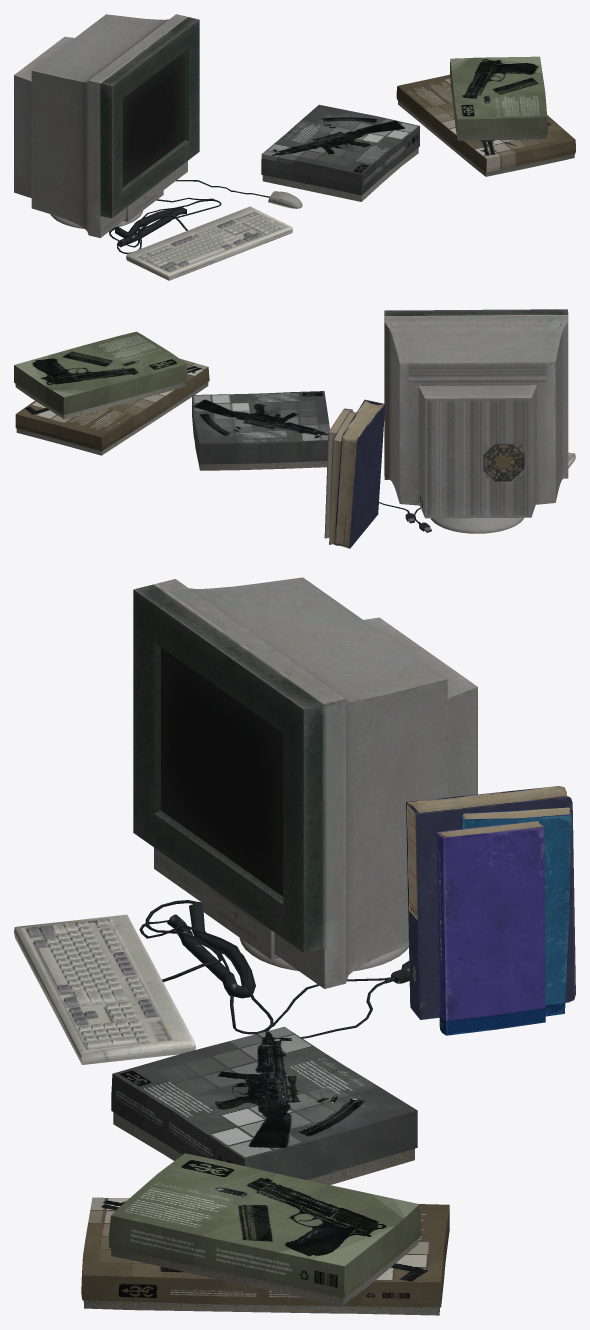
File: sm39_031_starsdeskset03a.fbx
The picture shows the model from 3 angles, top to bottom: view 1: azimuth 30°, elevation 25°; view 2: azimuth 150°, elevation 25°; view 3: azimuth 270°, elevation 25°; orthographic projection. The views are drawn at different scales.
Parts seen in each view (by area): view 1: LOD_1_Group_0_Sub_2__sm31_032_CommissionerPc01A_A_Mat, LOD_1_Group_0_Sub_5__sm32_039_BoardGame01A_A_Mat1, LOD_1_Group_0_Sub_3__sm42_002_DesktopPc01A_A_Mat, LOD_1_Group_0_Sub_4__sm31_021_KeyBoard01A_A_Mat1; view 2: LOD_1_Group_0_Sub_2__sm31_032_CommissionerPc01A_A_Mat, LOD_1_Group_0_Sub_5__sm32_039_BoardGame01A_A_Mat1, LOD_1_Group_4_Sub_1__sm36_007_PaperWork01A_A_Mat, LOD_1_Group_1_Sub_2__sm31_032_CommissionerPc01A_A_Mat, LOD_1_Group_0_Sub_1__sm36_007_PaperWork01A_A_Mat, LOD_1_Group_1_Sub_1__sm36_007_PaperWork01A_A_Mat; view 3: LOD_1_Group_0_Sub_2__sm31_032_CommissionerPc01A_A_Mat, LOD_1_Group_0_Sub_5__sm32_039_BoardGame01A_A_Mat1, LOD_1_Group_1_Sub_1__sm36_007_PaperWork01A_A_Mat, LOD_1_Group_0_Sub_3__sm42_002_DesktopPc01A_A_Mat, LOD_1_Group_4_Sub_1__sm36_007_PaperWork01A_A_Mat, LOD_1_Group_0_Sub_1__sm36_007_PaperWork01A_A_Mat, LOD_1_Group_0_Sub_4__sm31_021_KeyBoard01A_A_Mat1.
Part boxes in pixels (left/top/right/bottom): LOD_1_Group_0_Sub_2__sm31_032_CommissionerPc01A_A_Mat: left=14, top=14, right=199, bottom=237; LOD_1_Group_0_Sub_5__sm32_039_BoardGame01A_A_Mat1: left=261, top=56, right=575, bottom=201; LOD_1_Group_0_Sub_3__sm42_002_DesktopPc01A_A_Mat: left=126, top=191, right=302, bottom=280; LOD_1_Group_0_Sub_4__sm31_021_KeyBoard01A_A_Mat1: left=109, top=180, right=269, bottom=253; LOD_1_Group_0_Sub_2__sm31_032_CommissionerPc01A_A_Mat: left=384, top=309, right=568, bottom=518; LOD_1_Group_0_Sub_5__sm32_039_BoardGame01A_A_Mat1: left=14, top=331, right=329, bottom=470; LOD_1_Group_4_Sub_1__sm36_007_PaperWork01A_A_Mat: left=334, top=399, right=385, bottom=548; LOD_1_Group_1_Sub_2__sm31_032_CommissionerPc01A_A_Mat: left=430, top=517, right=523, bottom=533; LOD_1_Group_0_Sub_1__sm36_007_PaperWork01A_A_Mat: left=329, top=411, right=356, bottom=545; LOD_1_Group_1_Sub_1__sm36_007_PaperWork01A_A_Mat: left=324, top=408, right=352, bottom=538; LOD_1_Group_0_Sub_2__sm31_032_CommissionerPc01A_A_Mat: left=133, top=577, right=477, bottom=988; LOD_1_Group_0_Sub_5__sm32_039_BoardGame01A_A_Mat1: left=81, top=1026, right=449, bottom=1315; LOD_1_Group_1_Sub_1__sm36_007_PaperWork01A_A_Mat: left=437, top=821, right=545, bottom=1035; LOD_1_Group_0_Sub_3__sm42_002_DesktopPc01A_A_Mat: left=14, top=914, right=195, bottom=1064; LOD_1_Group_4_Sub_1__sm36_007_PaperWork01A_A_Mat: left=406, top=786, right=575, bottom=1019; LOD_1_Group_0_Sub_1__sm36_007_PaperWork01A_A_Mat: left=461, top=807, right=571, bottom=1016; LOD_1_Group_0_Sub_4__sm31_021_KeyBoard01A_A_Mat1: left=139, top=900, right=409, bottom=1038.
Bounding box in the file's own units: 1.6 × 0.5254 × 0.8133.
